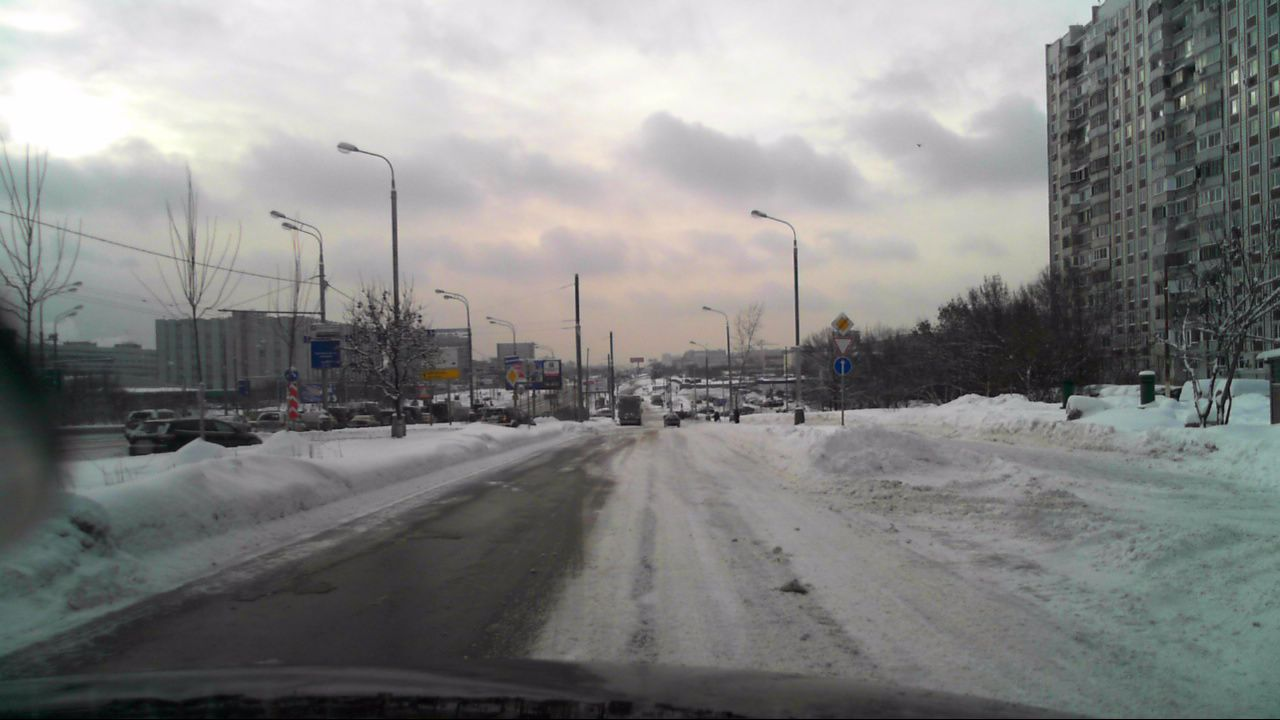main road: (831, 312, 854, 335)
